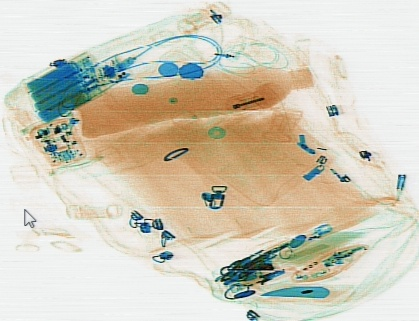powerbank: (21, 51, 107, 123)
